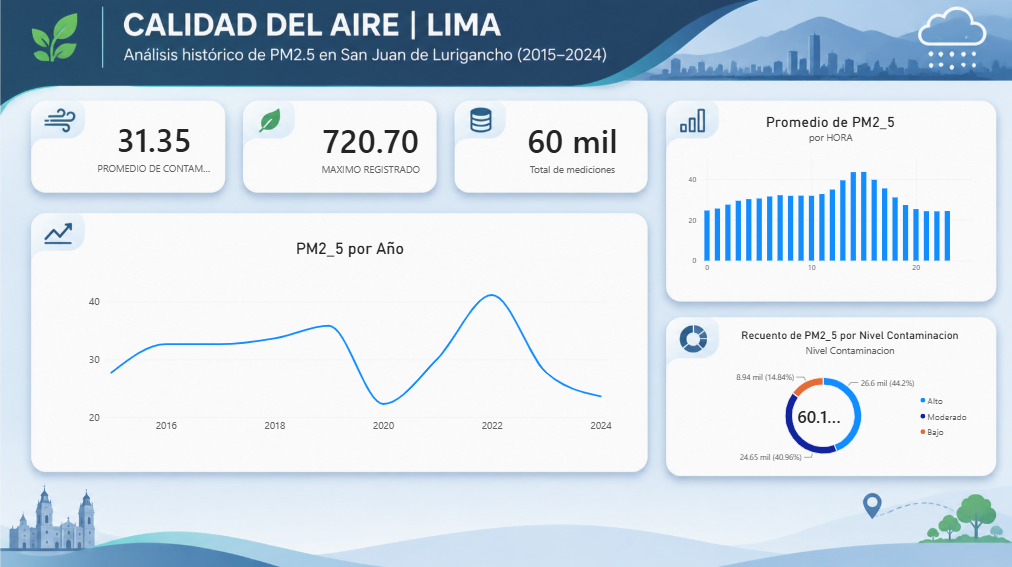

Layout of this report page (visuals, bound fields, positions):
{"tool":"powerbi","page":{"name":"Calidad de aire ","canvas":[1920,1080],"ordinal":0},"visuals":[{"type":"cardVisual","fields":{"Data":["Modelo de datos.PROMEDIO DE CONTAMINACIÓN"]},"box":[267.6,244.9,220.2,131.7],"z":0},{"type":"cardVisual","fields":{"Data":["Modelo de datos.MAXIMO REGISTRADO"]},"box":[627.8,249.1,212,127.6],"z":1000},{"type":"cardVisual","fields":{"Data":["Modelo de datos.Total de mediciones"]},"box":[959.2,251.1,214.1,121.4],"z":2000},{"type":"lineChart","title":"PM2_5 por Año","fields":{"Category":["Modelo de datos.ANIO"],"Y":["Avg(Modelo de datos.PM2_5)"]},"box":[253.2,448.7,893.3,354],"z":3000},{"type":"clusteredColumnChart","fields":{"Category":["Modelo de datos.HORA"],"Y":["Avg(Modelo de datos.PM2_5)"]},"box":[1241.2,240.8,500.2,298.5],"z":4000},{"type":"donutChart","fields":{"Category":["Modelo de datos.Nivel Contaminacion"],"Y":["CountNonNull(Modelo de datos.PM2_5)"]},"box":[1305,596.9,436.4,255.2],"z":5000}]}

Visuals, with their boxes in screenshot pixels (x1, y1, x2, y2), scaled from the page's 1920x1080 canvas onto the 1012x567 screenshot:
cardVisual - Modelo de datos.PROMEDIO DE CONTAMINACIÓN: 141 129 257 198
cardVisual - Modelo de datos.MAXIMO REGISTRADO: 331 131 443 198
cardVisual - Modelo de datos.Total de mediciones: 506 132 618 196
"PM2_5 por Año" lineChart: 133 236 604 421
clusteredColumnChart - Modelo de datos.HORA x Avg(Modelo de datos.PM2_5): 654 126 918 283
donutChart - Modelo de datos.Nivel Contaminacion x CountNonNull(Modelo de datos.PM2_5): 688 313 918 447
